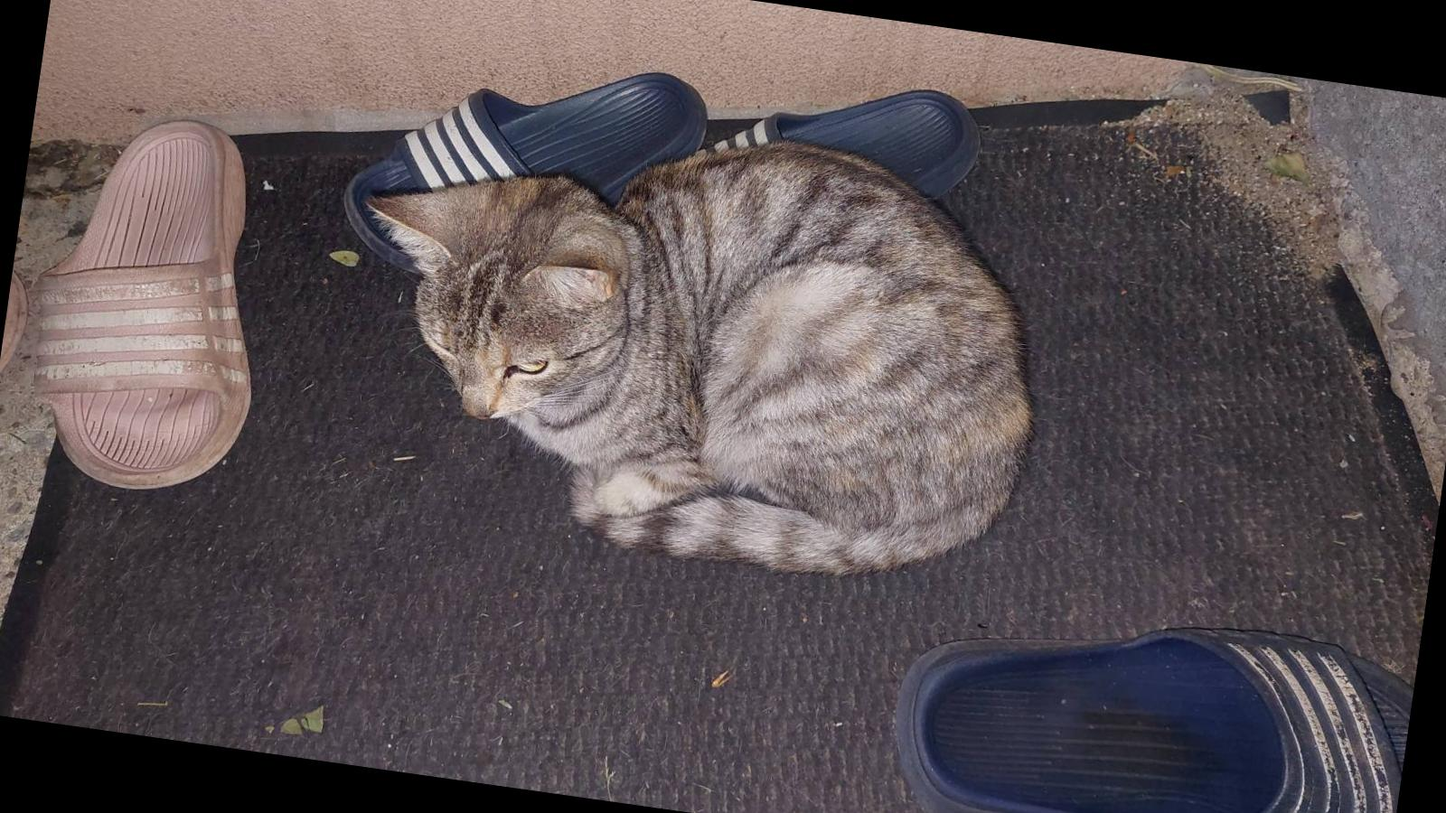macka: (323, 84, 1064, 606)
